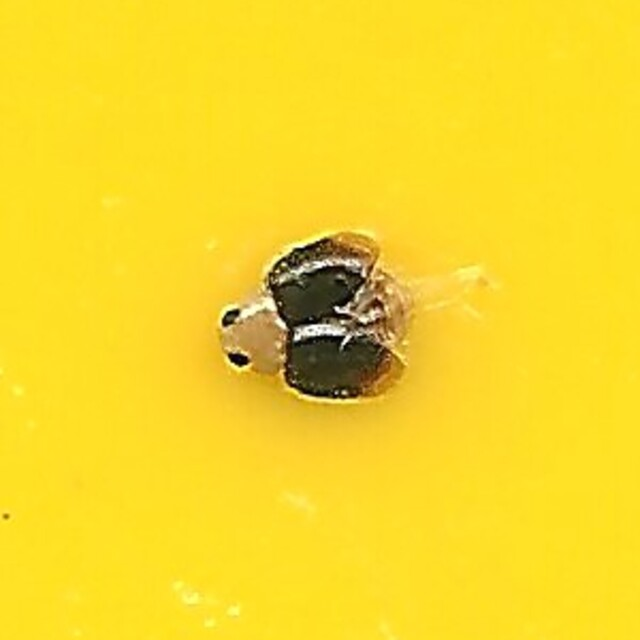Coleoptera: (213, 225, 427, 415)
